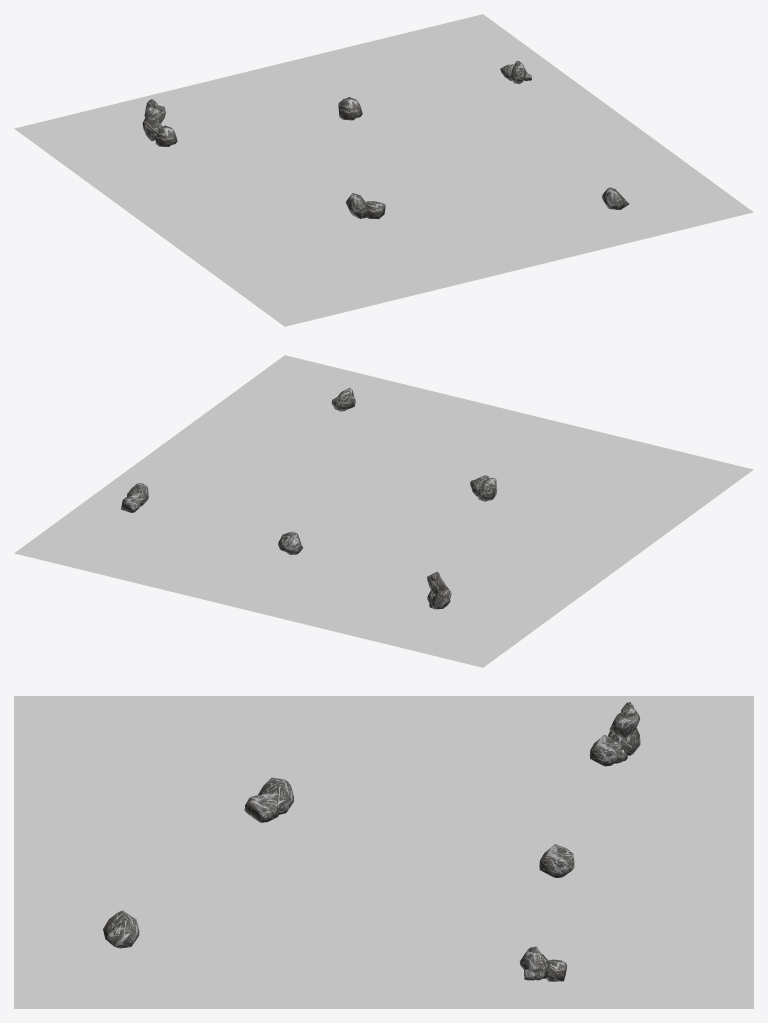
Rendered from escenario limpia.glb.
3 renders of one model, top to bottom at view 1: azimuth 30°, elevation 25°; view 2: azimuth 150°, elevation 25°; view 3: azimuth 270°, elevation 25°, orthographic. The views are drawn at different scales.
Parts seen in each view (by area): view 1: Piso.003-col-col, Piedra 2.col.001; view 2: Piso.003-col-col, Piedra 2.col.001; view 3: Piso.003-col-col, Piedra 2.col.001.
Boxes of the visible parts, <box> form: Piso.003-col-col: <box>14,14,753,326</box>; Piedra 2.col.001: <box>142,61,629,219</box>; Piso.003-col-col: <box>14,355,753,667</box>; Piedra 2.col.001: <box>121,388,497,609</box>; Piso.003-col-col: <box>14,696,753,1008</box>; Piedra 2.col.001: <box>103,702,640,981</box>.
Size of the model in its own units: 10 by 0.8464 by 10.
Materials: 2 (1 with a texture image).
